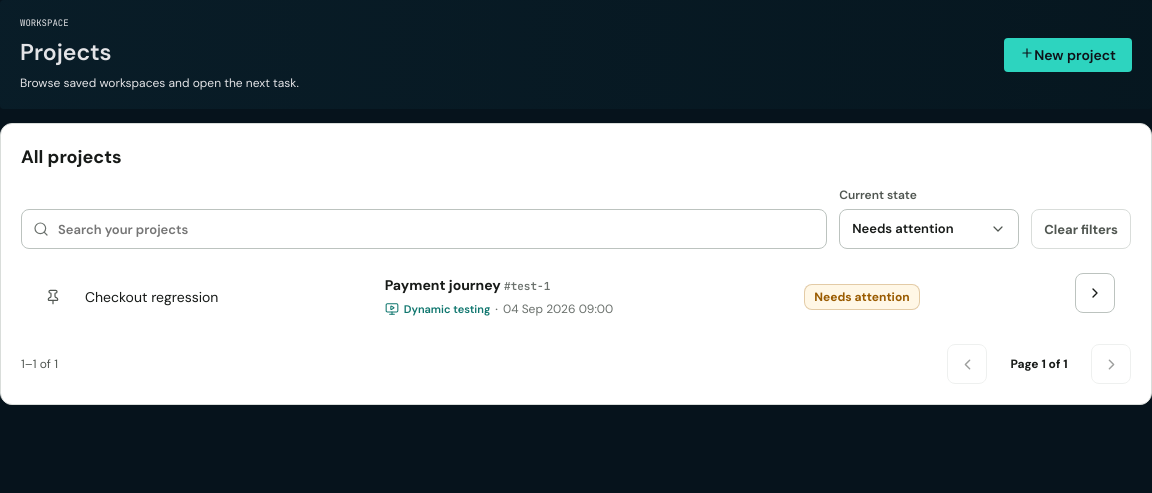
it: Project directory › uses the shared table and honors carried state and activity filters
Expected: the table named "Projects" shows "Checkout regression", [85,288,218,306]
Expected: the table named "Projects" shows "Needs attention", [814,288,910,304]
Type "missing project" into the search field labelled "Search your projects". click: (424, 229)
box: [21,209,827,249]
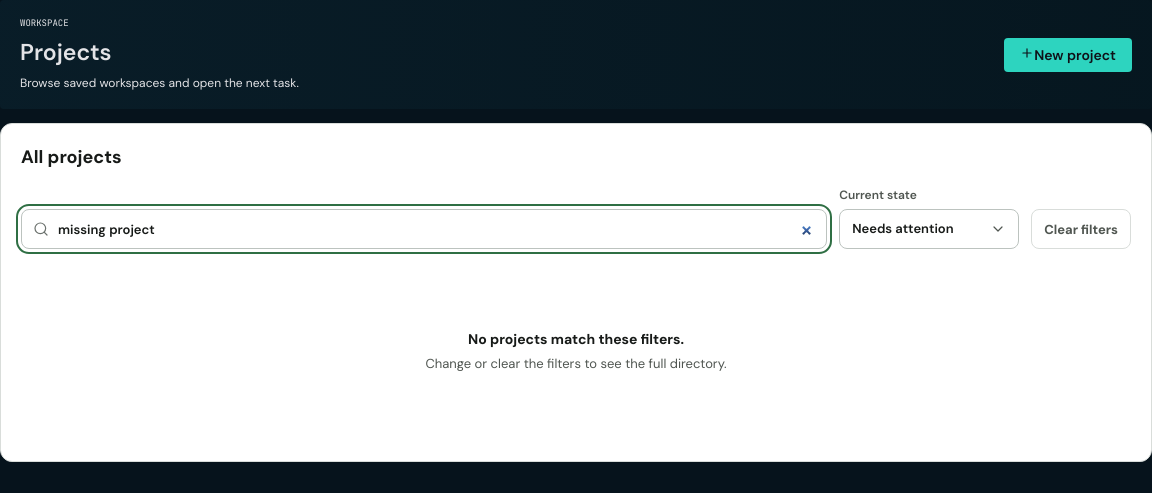
Result: the text "No projects match these filters." is shown at [468,329,684,350]
Click the button "Clear filters". click: (1081, 229)
box: [1031,209,1131,249]
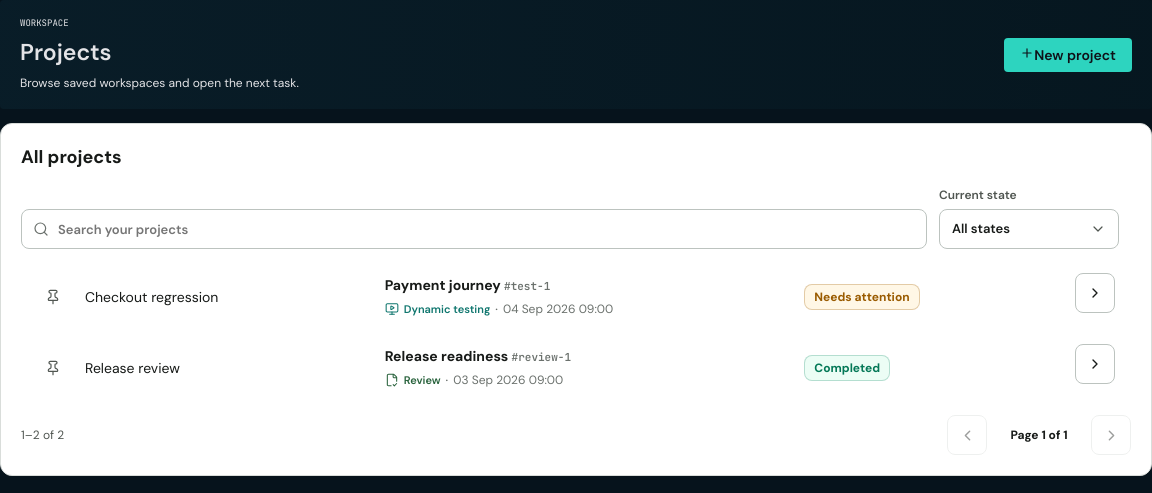
Result: the table named "Projects" shows "Release review" at [85,358,180,376]
Result: the table named "Projects" shows "Checkout regression" at [85,288,218,306]
